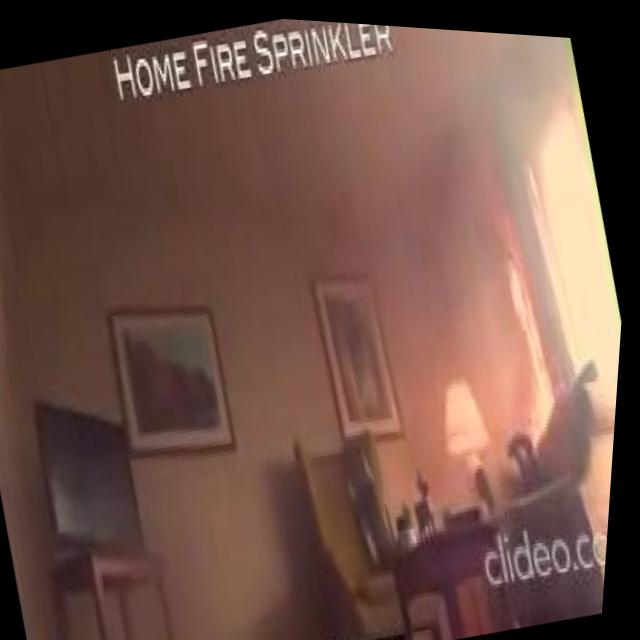fire: (463, 184, 583, 445)
